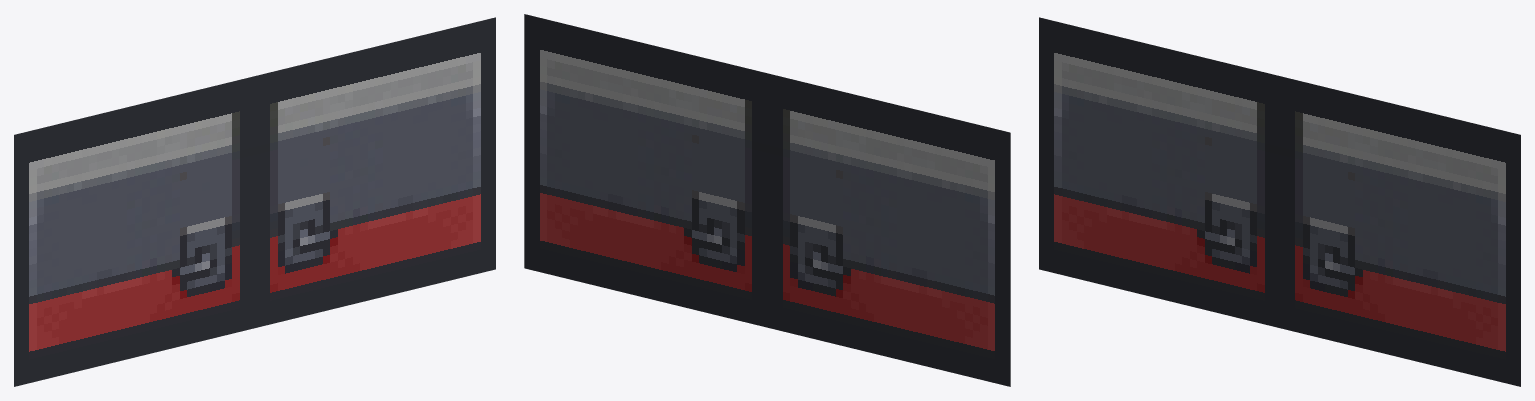
File: DoubleDoor_H_Red.glb
3 views of the same model, side by side, from view 1: azimuth 30°, elevation 25°; view 2: azimuth 150°, elevation 25°; view 3: azimuth 330°, elevation 25° (orthographic).
Visible parts, largest first — view 1: pPlane7, pPlane6; view 2: pPlane6, pPlane7; view 3: pPlane6, pPlane7.
Part boxes in pixels (left/top/right/bottom): pPlane7: left=14, top=76, right=254, bottom=386; pPlane6: left=255, top=17, right=495, bottom=327; pPlane6: left=524, top=14, right=767, bottom=327; pPlane7: left=767, top=73, right=1010, bottom=386; pPlane6: left=1280, top=76, right=1520, bottom=386; pPlane7: left=1039, top=17, right=1279, bottom=327.
Bounding box in the file's own units: 2 × 1.03 × 0.1.
2 materials, 2 textured.
